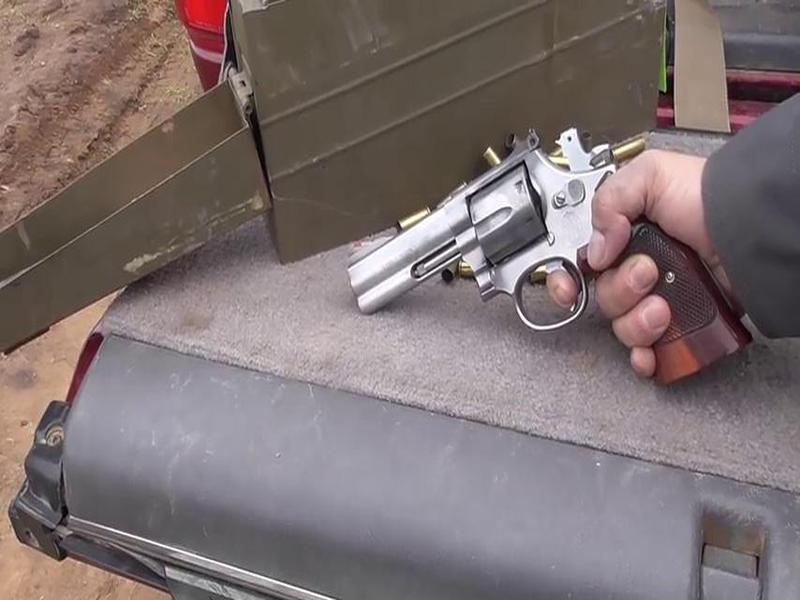Revolver: (348, 144, 672, 373)
